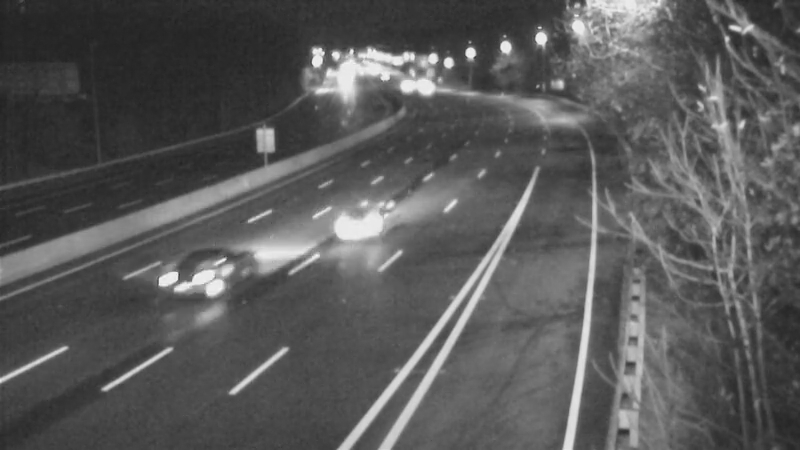vehicle: (321, 180, 401, 260), (153, 234, 233, 314)
